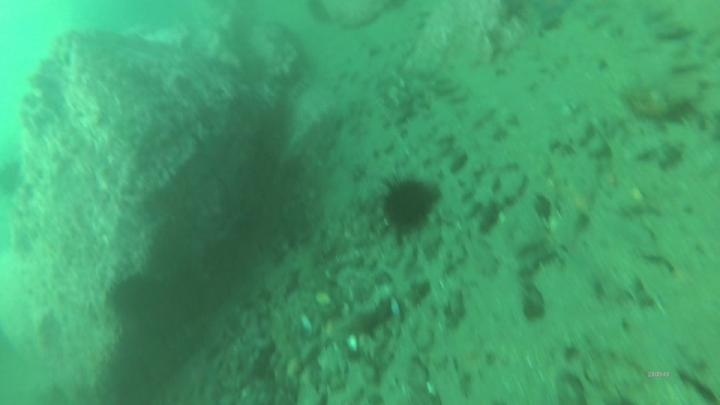echinus: (387, 185, 433, 229)
